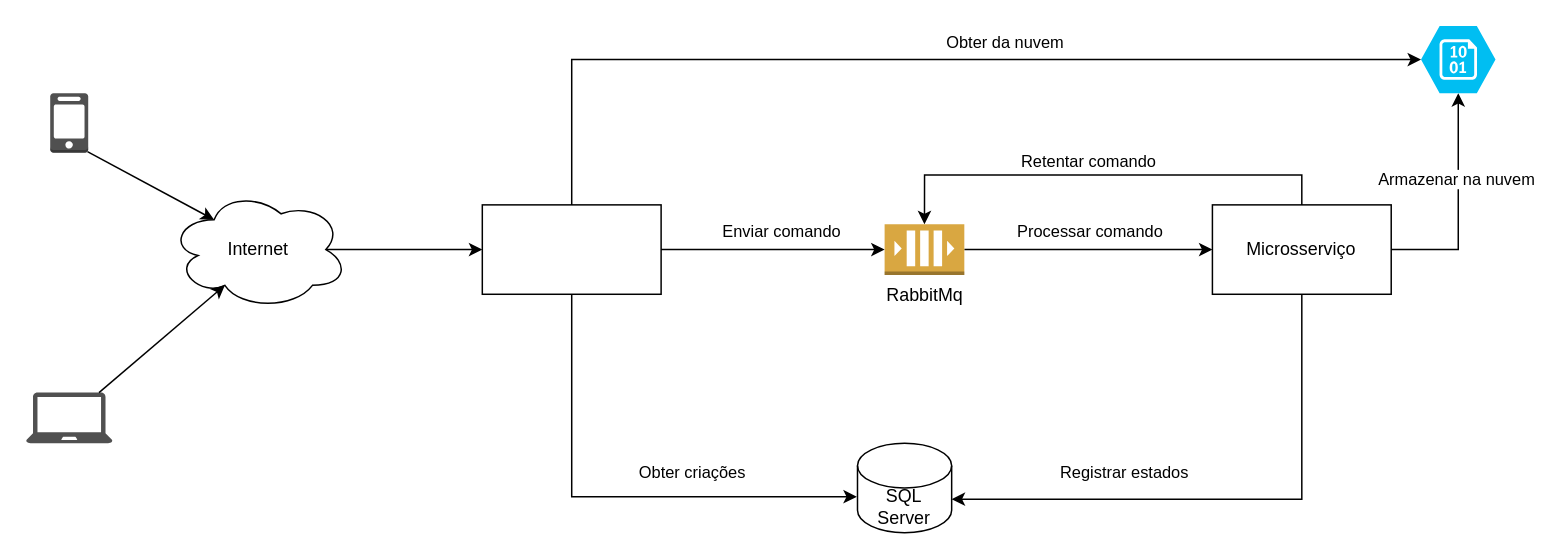
This 1560x559 diagram has some shape labels left out. The box of each missing label's shape, as (x1, y1, x2, y2) in pixels:
API: (481, 203, 661, 294)
Blob Storage: (1420, 25, 1495, 92)
